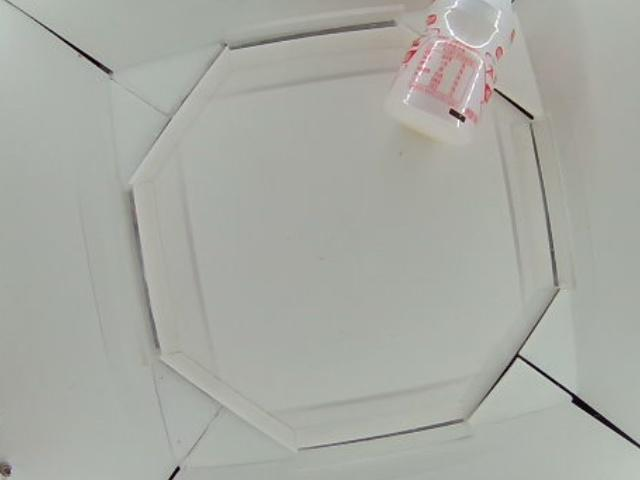Bottle: (384, 1, 520, 147)
